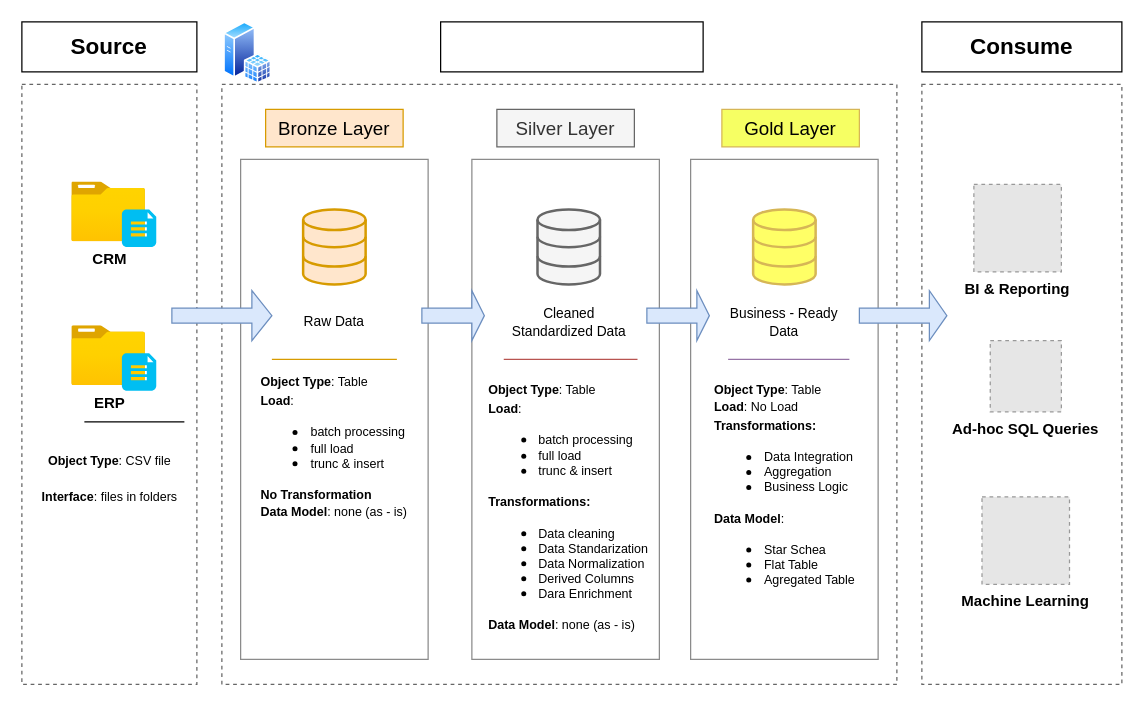
Image size: 1144x706. Some labels were removed from this diagram. Grey dashed boxes stand in for pictures. The shapes that lost their labels are listed below. From the top down, each one's centre as x and y in pixels, then its label:
At [247,52]: "SQL".
At [571,46]: "Data Warehouse".
